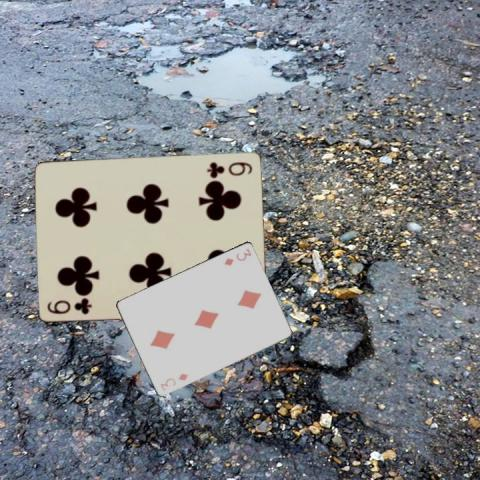3d: (158, 370, 190, 392), (221, 246, 253, 267)
6c: (45, 295, 94, 315), (204, 159, 254, 178)
